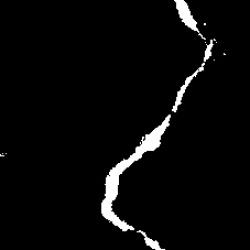crack: (99, 4, 218, 249)
